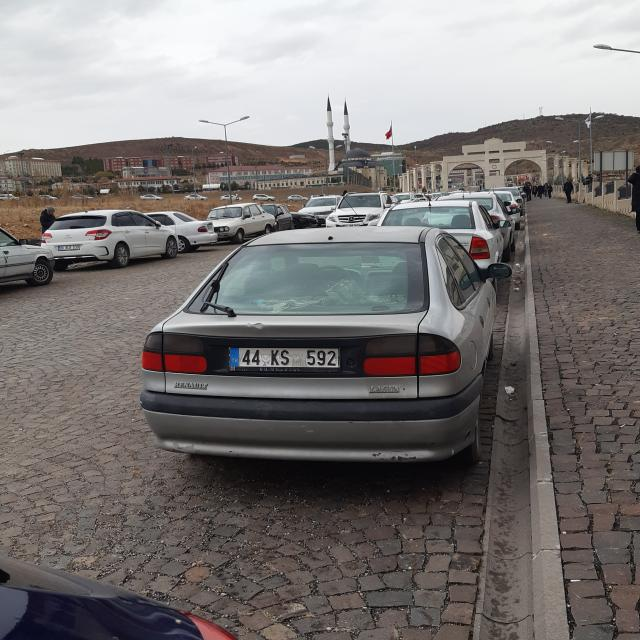plate: (230, 348, 340, 369)
